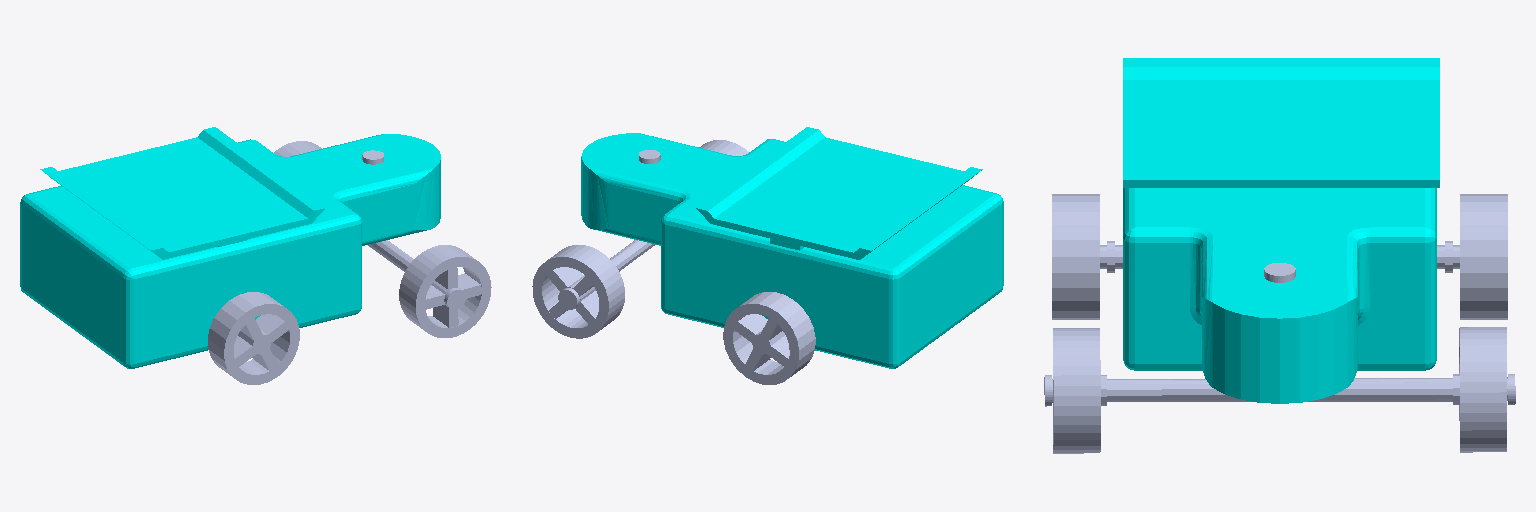
URDF robot description (mobile_robot):
<?xml version="1.0" encoding="utf-8"?>
<!-- This URDF was automatically created by SolidWorks to URDF Exporter! Originally created by [author] ([email redacted]) 
     Commit Version: 1.6.0-1-g15f4949  Build Version: 1.6.7594.29634
     For more information, please see http://wiki.ros.org/sw_urdf_exporter -->
<robot
  name="mobile_robot">
  <link
    name = "dummy_link">
  </link>
  
  <link
    name="base_link">
    <inertial>
      <origin
        xyz="-0.11001 0.14012 0.011651"
        rpy="0 0 0" />
      <mass
        value="96.8" />
      <inertia
        ixx="2.4426"
        ixy="-0.18931"
        ixz="-0.0011354"
        iyy="7.0227"
        iyz="0.0018821"
        izz="5.7036" />
    </inertial>
    <visual>
      <origin
        xyz="0 0 0"
        rpy="0 0 0" />
      <geometry>
        <mesh
          filename="package://mobile_robot/meshes/base_link.STL" />
      </geometry>
      <material
        name="">
        <color
          rgba="0 1 1 1" />
      </material>
    </visual>
    <collision>
      <origin
        xyz="0 0 0"
        rpy="0 0 0" />
      <geometry>
        <mesh
          filename="package://mobile_robot/meshes/base_link.STL" />
      </geometry>
    </collision>
  </link>
  
  <joint
    name = "dummy_joint"
    type ="fixed">
    <parent
    link = "dummy_link"/>
    <child
    link = "base_link"/>
  </joint>
  
  <link
    name="rear_axle">
    <inertial>
      <origin
        xyz="0.011801 5.5511E-17 1.9429E-16"
        rpy="0 0 0" />
      <mass
        value="3.9541" />
      <inertia
        ixx="0.019882"
        ixy="-1.5458E-17"
        ixz="-7.8632E-17"
        iyy="0.38792"
        iyz="-1.0334E-33"
        izz="0.38792" />
    </inertial>
    <visual>
      <origin
        xyz="0 0 0"
        rpy="0 0 0" />
      <geometry>
        <mesh
          filename="package://mobile_robot/meshes/rear_axle.STL" />
      </geometry>
      <material
        name="">
        <color
          rgba="0.79216 0.81961 0.93333 1" />
      </material>
    </visual>
    <collision>
      <origin
        xyz="0 0 0"
        rpy="0 0 0" />
      <geometry>
        <mesh
          filename="package://mobile_robot/meshes/rear_axle.STL" />
      </geometry>
    </collision>
  </link>
  <joint
    name="joint_ra"
    type="continuous">
    <origin
      xyz="-0.18897 0 0.0508"
      rpy="2.0145 0 -1.5708" />
    <parent
      link="base_link" />
    <child
      link="rear_axle" />
    <axis
      xyz="1 0 0" />
  </joint>
  <link
    name="front_axle">
    <inertial>
      <origin
        xyz="9.8879E-17 0.050363 3.4781E-10"
        rpy="0 0 0" />
      <mass
        value="1.1528" />
      <inertia
        ixx="0.0028829"
        ixy="-4.7973E-18"
        ixz="6.5563E-11"
        iyy="0.039949"
        iyz="9.6064E-11"
        izz="0.042604" />
    </inertial>
    <visual>
      <origin
        xyz="0 0 0"
        rpy="0 0 0" />
      <geometry>
        <mesh
          filename="package://mobile_robot/meshes/front_axle.STL" />
      </geometry>
      <material
        name="">
        <color
          rgba="0.79216 0.81961 0.93333 1" />
      </material>
    </visual>
    <collision>
      <origin
        xyz="0 0 0"
        rpy="0 0 0" />
      <geometry>
        <mesh
          filename="package://mobile_robot/meshes/front_axle.STL" />
      </geometry>
    </collision>
  </link>
  <joint
    name="joint_fa"
    type="revolute">
    <origin
      xyz="0.3209 -0.011801 0.0254"
      rpy="1.5708 0 1.5766" />
    <parent
      link="base_link" />
    <child
      link="front_axle" />
    <axis
      xyz="0 1 0" />
    <limit
      lower= "-0.262"
      upper= "0.262"
      effort = "200"
      velocity= "10" />
  </joint>
  <link
    name="front_wheel1">
    <inertial>
      <origin
        xyz="-0.039311 -2.0123E-16 -6.6613E-16"
        rpy="0 0 0" />
      <mass
        value="1.5322" />
      <inertia
        ixx="0.009825"
        ixy="3.4607E-18"
        ixz="7.0416E-17"
        iyy="0.0056396"
        iyz="5.1069E-20"
        izz="0.0056396" />
    </inertial>
    <visual>
      <origin
        xyz="0 0 0"
        rpy="0 0 0" />
      <geometry>
        <mesh
          filename="package://mobile_robot/meshes/front_wheel1.STL" />
      </geometry>
      <material
        name="">
        <color
          rgba="0.79216 0.81961 0.93333 1" />
      </material>
    </visual>
    <collision>
      <origin
        xyz="0 0 0"
        rpy="0 0 0" />
      <geometry>
        <mesh
          filename="package://mobile_robot/meshes/front_wheel1.STL" />
      </geometry>
    </collision>
  </link>
  <joint
    name="joint_fw1"
    type="continuous">
    <origin
      xyz="-0.28962 0.0254 0"
      rpy="-0.020659 0 0" />
    <parent
      link="front_axle" />
    <child
      link="front_wheel1" />
    <axis
      xyz="1 0 0" />
  </joint>
  <link
    name="front_wheel2">
    <inertial>
      <origin
        xyz="0.039775 -1.6653E-16 -1.1102E-16"
        rpy="0 0 0" />
      <mass
        value="1.5322" />
      <inertia
        ixx="0.009825"
        ixy="3.051E-18"
        ixz="1.6432E-19"
        iyy="0.0056396"
        iyz="-9.4324E-19"
        izz="0.0056396" />
    </inertial>
    <visual>
      <origin
        xyz="0 0 0"
        rpy="0 0 0" />
      <geometry>
        <mesh
          filename="package://mobile_robot/meshes/front_wheel2.STL" />
      </geometry>
      <material
        name="">
        <color
          rgba="0.79216 0.81961 0.93333 1" />
      </material>
    </visual>
    <collision>
      <origin
        xyz="0 0 0"
        rpy="0 0 0" />
      <geometry>
        <mesh
          filename="package://mobile_robot/meshes/front_wheel2.STL" />
      </geometry>
    </collision>
  </link>
  <joint
    name="joint_fw2"
    type="continuous">
    <origin
      xyz="0.28915 0.0254 0"
      rpy="-0.72236 0 0" />
    <parent
      link="front_axle" />
    <child
      link="front_wheel2" />
    <axis
      xyz="1 0 0" />
  </joint>

<gazebo reference = "base_link">
  <material>Gazebo/Turquoise</material>
</gazebo>
<gazebo reference = "rear_axle">
  <material>Gazebo/WhiteGlow</material>
</gazebo>
<gazebo reference = "front_axle">
  <material>Gazebo/WhiteGlow</material>
</gazebo>
<gazebo reference = "front_wheel1">
  <material>Gazebo/WhiteGlow</material>
</gazebo>
<gazebo reference = "front_wheel2">
  <material>Gazebo/WhiteGlow</material>
</gazebo>
<transmission name="fa_trans">
  <type>SimpleTransmission</type>
  <joint name="joint_fa">
    <hardwareInterface>hardware_interface/EffortJointInterface</hardwareInterface>
  </joint>
  <actuator name="motor_fa">
    <mechanicalReduction>50</mechanicalReduction>
    <hardwareInterface>hardware_interface/EffortJointInterface</hardwareInterface>
  </actuator>
</transmission>
<transmission name="ra_trans">
  <type>SimpleTransmission</type>
  <joint name="joint_ra">
    <hardwareInterface>hardware_interface/VelocityJointInterface</hardwareInterface>
  </joint>
  <actuator name="motor_ra">
    <mechanicalReduction>50</mechanicalReduction>
    <hardwareInterface>hardware_interface/VelocityJointInterface</hardwareInterface>
  </actuator>
</transmission>
</robot>

--- What the picture shows (computed from the rendered views, not written in the file) ---
3 views of the same robot in one strip: view 1: azimuth 30°, elevation 25°; view 2: azimuth 150°, elevation 25°; view 3: azimuth 270°, elevation 25° (orthographic).
Robot: mobile_robot — 6 links, 5 joints (1 revolute, 3 continuous, 1 fixed); root link dummy_link; default pose: every joint at zero.
Links seen in each view (by area): view 1: base_link, rear_axle, front_wheel1, front_axle; view 2: base_link, rear_axle, front_wheel2, front_axle; view 3: base_link, rear_axle, front_axle, front_wheel1, front_wheel2.
Boxes of the visible links, left/top/right/bottom form: base_link: left=20, top=127, right=440, bottom=368; rear_axle: left=208, top=292, right=299, bottom=384; front_wheel1: left=399, top=245, right=491, bottom=337; front_axle: left=362, top=150, right=465, bottom=309; base_link: left=581, top=127, right=1003, bottom=368; rear_axle: left=723, top=292, right=815, bottom=384; front_wheel2: left=532, top=245, right=624, bottom=338; front_axle: left=558, top=150, right=660, bottom=309; base_link: left=1123, top=58, right=1439, bottom=403; rear_axle: left=1052, top=194, right=1507, bottom=319; front_axle: left=1044, top=263, right=1515, bottom=406; front_wheel1: left=1053, top=328, right=1100, bottom=453; front_wheel2: left=1459, top=327, right=1506, bottom=452.
Bounding box of the posed robot: 0.9652 × 0.7623 × 0.3489 m (x, y, z).
Meshes: 5 distinct files referenced, 5 mesh visuals loaded (5 binary STL).
